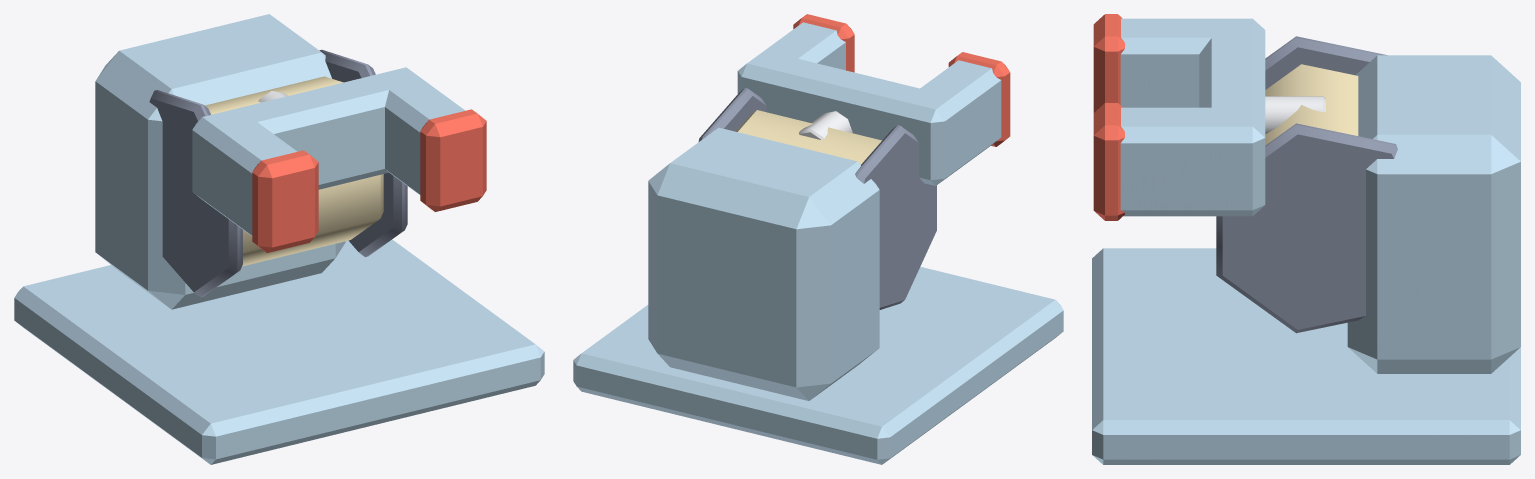
File: R4X_MagneticGrapple_LOD1.glb
3 renders of one model, left to right at view 1: azimuth 30°, elevation 25°; view 2: azimuth 150°, elevation 25°; view 3: azimuth 270°, elevation 25°, orthographic. The views are drawn at different scales.
Parts seen in each view (by area): view 1: R4X_MagneticGrapple_LOD1; view 2: R4X_MagneticGrapple_LOD1; view 3: R4X_MagneticGrapple_LOD1.
Boxes of the visible parts, x1,y1,x2,y2 form: R4X_MagneticGrapple_LOD1: [14, 14, 544, 464]; R4X_MagneticGrapple_LOD1: [573, 14, 1063, 464]; R4X_MagneticGrapple_LOD1: [1092, 14, 1520, 464].
Size of the model in its own units: 0.52 by 0.414 by 0.52.
